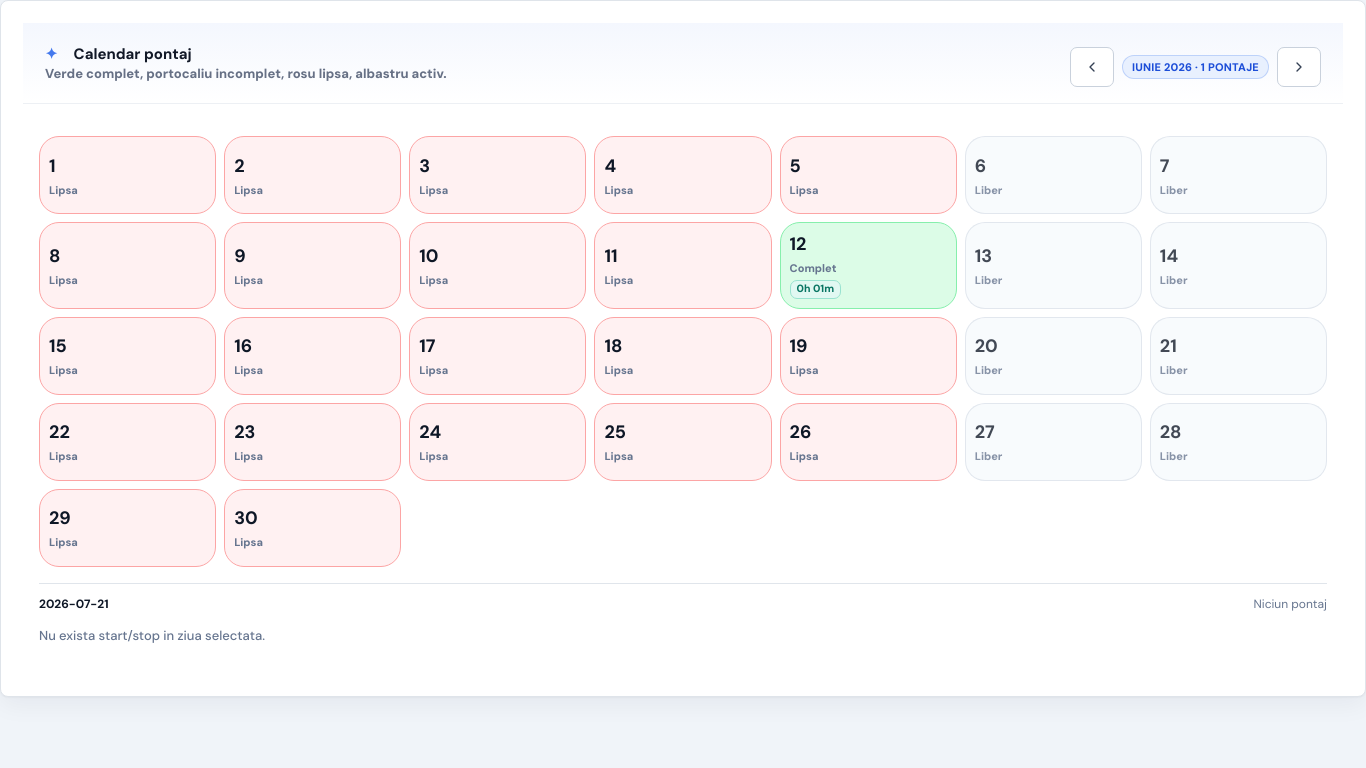
Test: TimesheetCalendar › uses the user's visual theme and identifies one-minute sessions
Click the button "12 Complet 0h 01m". click: (868, 266)
box: [780,222,957,309]
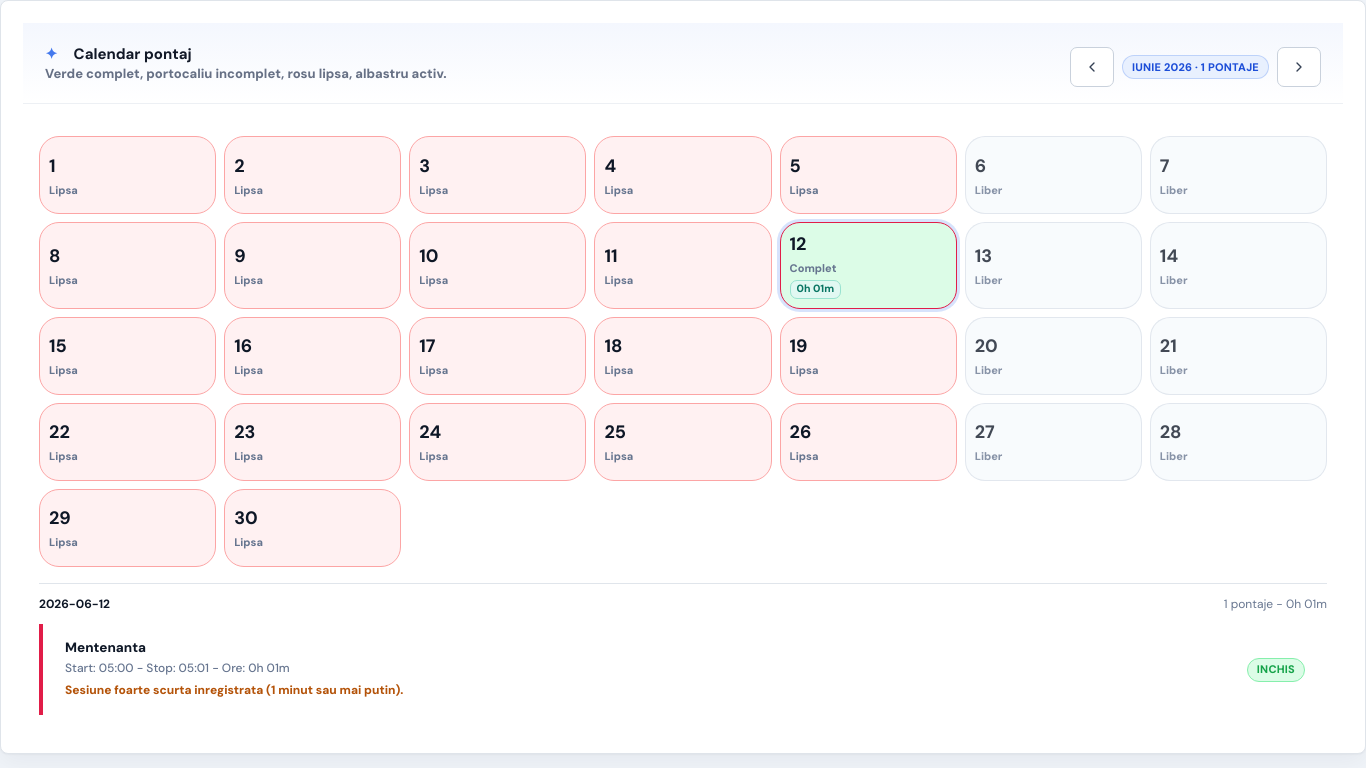
Result: the text "Sesiune foarte scurta inregistrata (1 minut sau mai putin)." is shown at [65,682,404,698]
